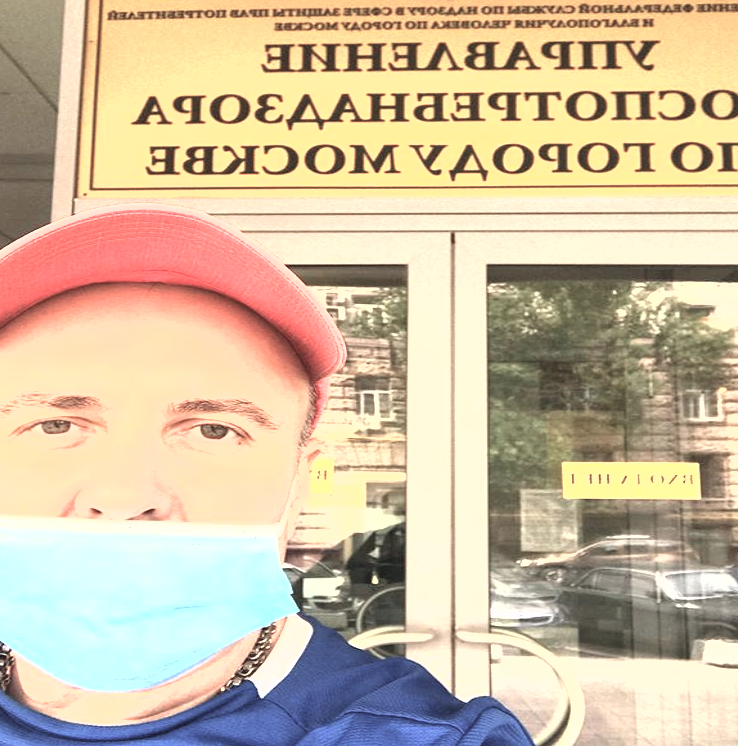mask_weared_incorrect: (1, 240, 320, 683)
